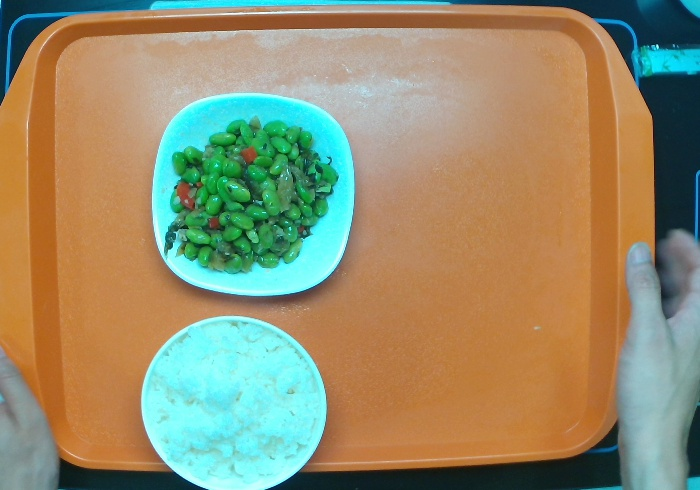ZNLD-Fan_Wan: (139, 313, 328, 490)
ZNLD-Si_Fang_Wan: (149, 89, 358, 299)
